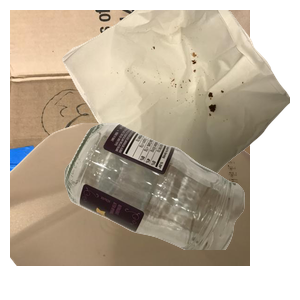cardboard: (10, 10, 250, 190)
glass: (62, 120, 300, 300)
plastic: (10, 120, 250, 300)
trash: (60, 10, 300, 190)
